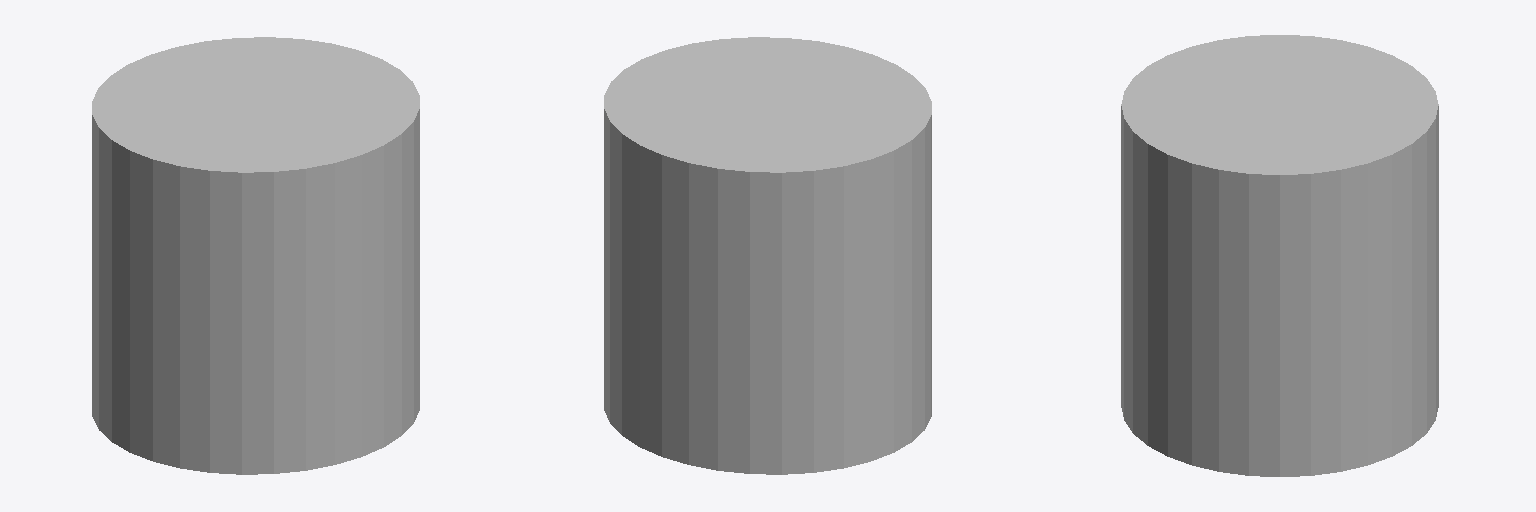
File: bucketWater.obj
3 renders of one model, left to right at view 1: azimuth 30°, elevation 25°; view 2: azimuth 150°, elevation 25°; view 3: azimuth 270°, elevation 25°, orthographic.
Visible parts, largest first — view 1: Cylinder_Cylinder.004; view 2: Cylinder_Cylinder.004; view 3: Cylinder_Cylinder.004.
Boxes of the visible parts, box(x1,y1,x2,y2) form: Cylinder_Cylinder.004: box(92, 37, 419, 474); Cylinder_Cylinder.004: box(604, 37, 931, 474); Cylinder_Cylinder.004: box(1121, 35, 1438, 476).
Bounding box in the file's own units: 0.0976 × 0.0978 × 0.0931.